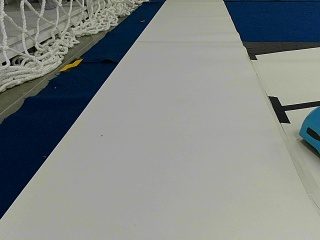car: (297, 105, 320, 155)
